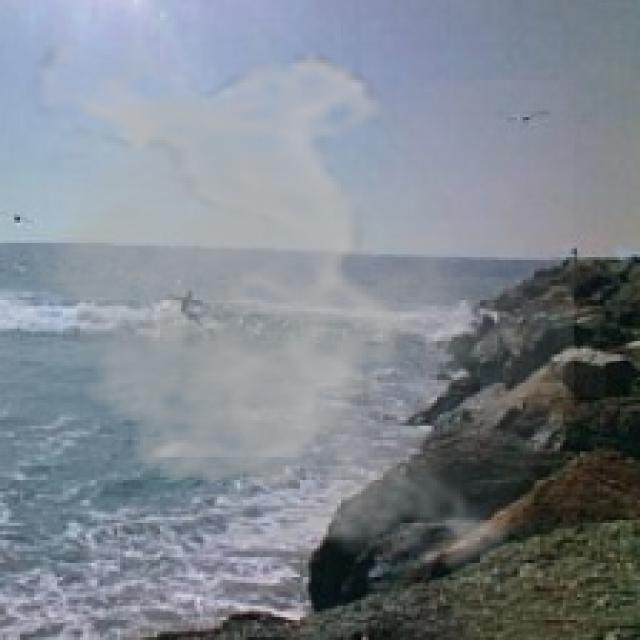smoke: (9, 46, 574, 586)
